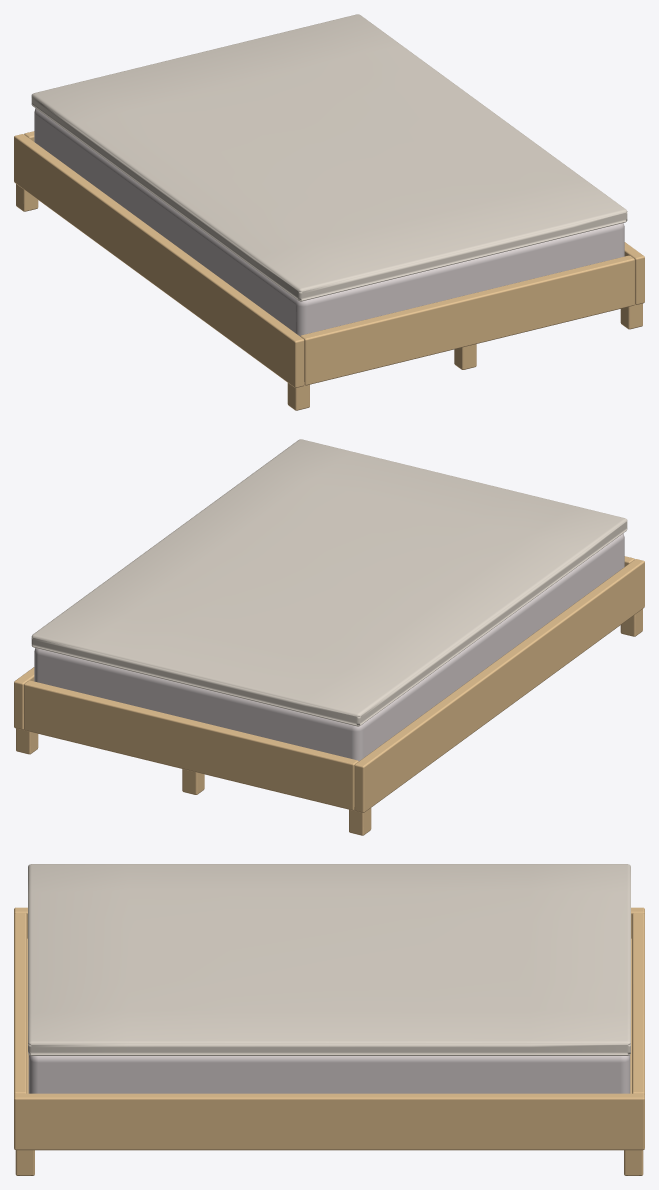
Rendered from bed_double.glb.
3 views of the same model, one above another, from view 1: azimuth 30°, elevation 25°; view 2: azimuth 150°, elevation 25°; view 3: azimuth 270°, elevation 25° (orthographic). The views are drawn at different scales.
Visible parts, largest first — view 1: bed_double; view 2: bed_double; view 3: bed_double.
Boxes of the visible parts, x1,y1,x2,y2 form: bed_double: (14, 14, 644, 410); bed_double: (14, 439, 644, 835); bed_double: (14, 864, 644, 1175).
Bounding box in the file's own units: 1.4 × 0.45 × 1.95.
